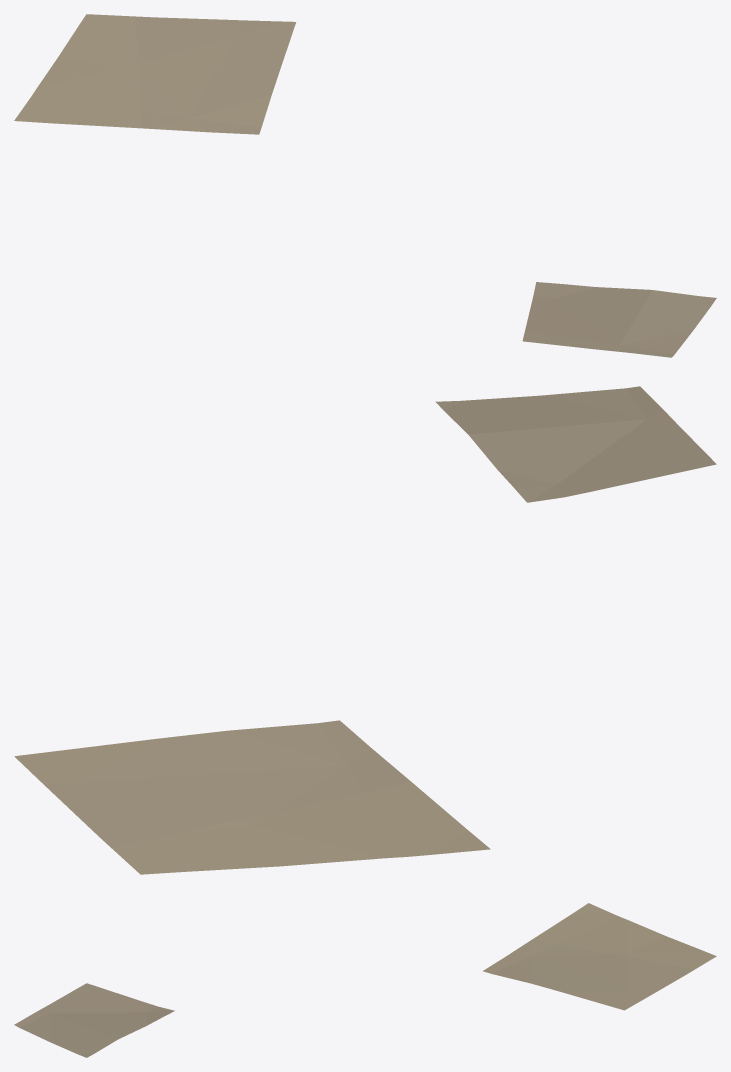
Rendered from farm_-8_8_soil.glb.
The picture shows the model from 3 angles, top to bottom: view 1: azimuth 30°, elevation 25°; view 2: azimuth 150°, elevation 25°; view 3: azimuth 270°, elevation 25°; orthographic projection. The views are drawn at different scales.
Visible parts, largest first — view 1: geometry_0; view 2: geometry_0; view 3: geometry_0.
Part boxes in pixels (bbox=[...]): geometry_0: bbox=[14, 14, 716, 357]; geometry_0: bbox=[14, 386, 716, 874]; geometry_0: bbox=[14, 903, 716, 1057].
Bounding box in the file's own units: 269 × 23.26 × 584.
